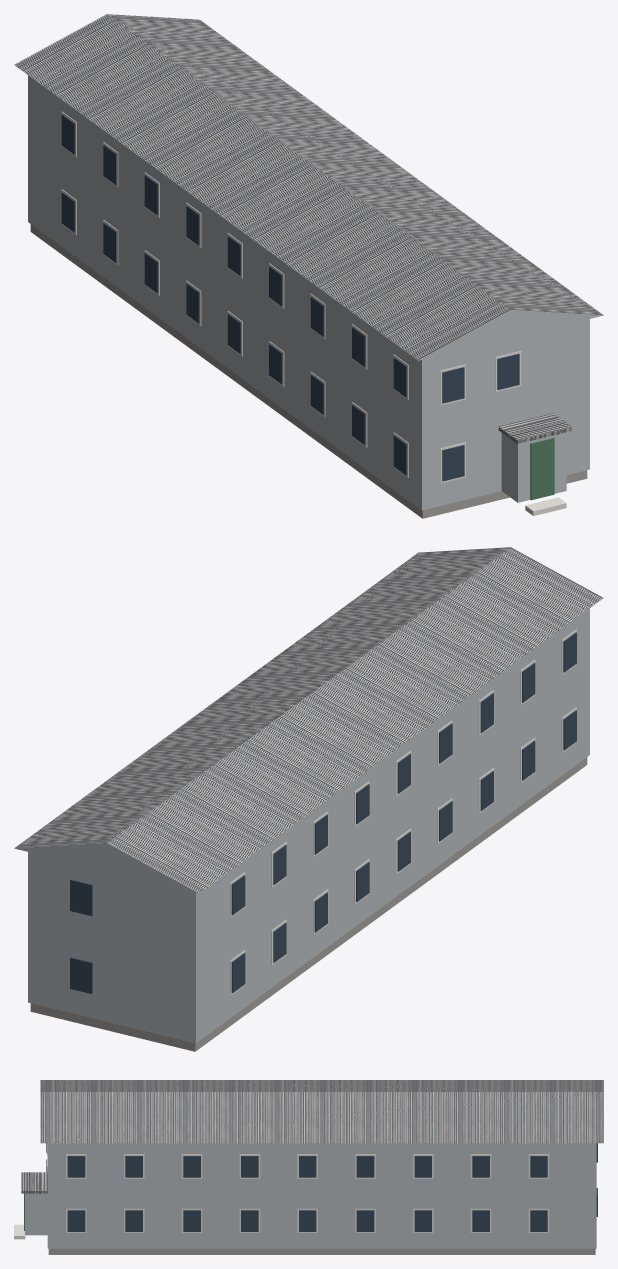
File: asset.glb
The picture shows the model from 3 angles, top to bottom: view 1: azimuth 30°, elevation 25°; view 2: azimuth 150°, elevation 25°; view 3: azimuth 270°, elevation 25°; orthographic projection. The views are drawn at different scales.
Parts seen in each view (by area): view 1: roof, body, foundation, gable_end, porch, door, porch_cap, win, win.020, win.021; view 2: roof, body, foundation, gable_end, win.040, win.019; view 3: body, roof, foundation, porch, porch_cap, win.010, win.015, win.031, win.036, win.011, win.012, win.013 (+11 smaller).
Boxes of the visible parts, x1=… form: roof: x1=14, y1=14, x2=603, y2=360; body: x1=28, y1=75, x2=589, y2=510; foundation: x1=30, y1=224, x2=587, y2=518; gable_end: x1=419, y1=310, x2=603, y2=360; porch: x1=501, y1=432, x2=566, y2=502; door: x1=530, y1=437, x2=554, y2=500; porch_cap: x1=498, y1=413, x2=572, y2=443; win: x1=442, y1=445, x2=464, y2=481; win.020: x1=442, y1=367, x2=464, y2=403; win.021: x1=497, y1=353, x2=519, y2=389; roof: x1=14, y1=547, x2=603, y2=893; body: x1=28, y1=608, x2=589, y2=1043; foundation: x1=30, y1=757, x2=587, y2=1051; gable_end: x1=14, y1=843, x2=198, y2=893; win.040: x1=70, y1=879, x2=92, y2=916; win.019: x1=70, y1=957, x2=92, y2=993; body: x1=47, y1=1143, x2=596, y2=1248; roof: x1=40, y1=1080, x2=603, y2=1143; foundation: x1=48, y1=1248, x2=595, y2=1254; porch: x1=25, y1=1193, x2=47, y2=1235; porch_cap: x1=21, y1=1172, x2=47, y2=1193; win.010: x1=67, y1=1210, x2=85, y2=1231; win.015: x1=356, y1=1210, x2=374, y2=1231; win.031: x1=67, y1=1156, x2=85, y2=1177; win.036: x1=356, y1=1156, x2=374, y2=1177; win.011: x1=125, y1=1210, x2=142, y2=1231; win.012: x1=183, y1=1210, x2=200, y2=1231; win.013: x1=241, y1=1210, x2=258, y2=1231.
Bounding box in the file's own units: 7.24 × 7.2 × 28.57.
Materials: 6 (1 with a texture image).
